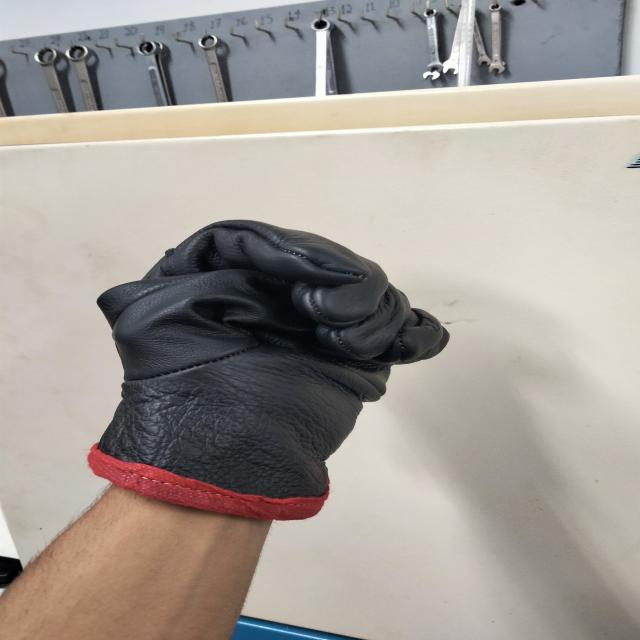Gloves: (82, 215, 455, 514)
